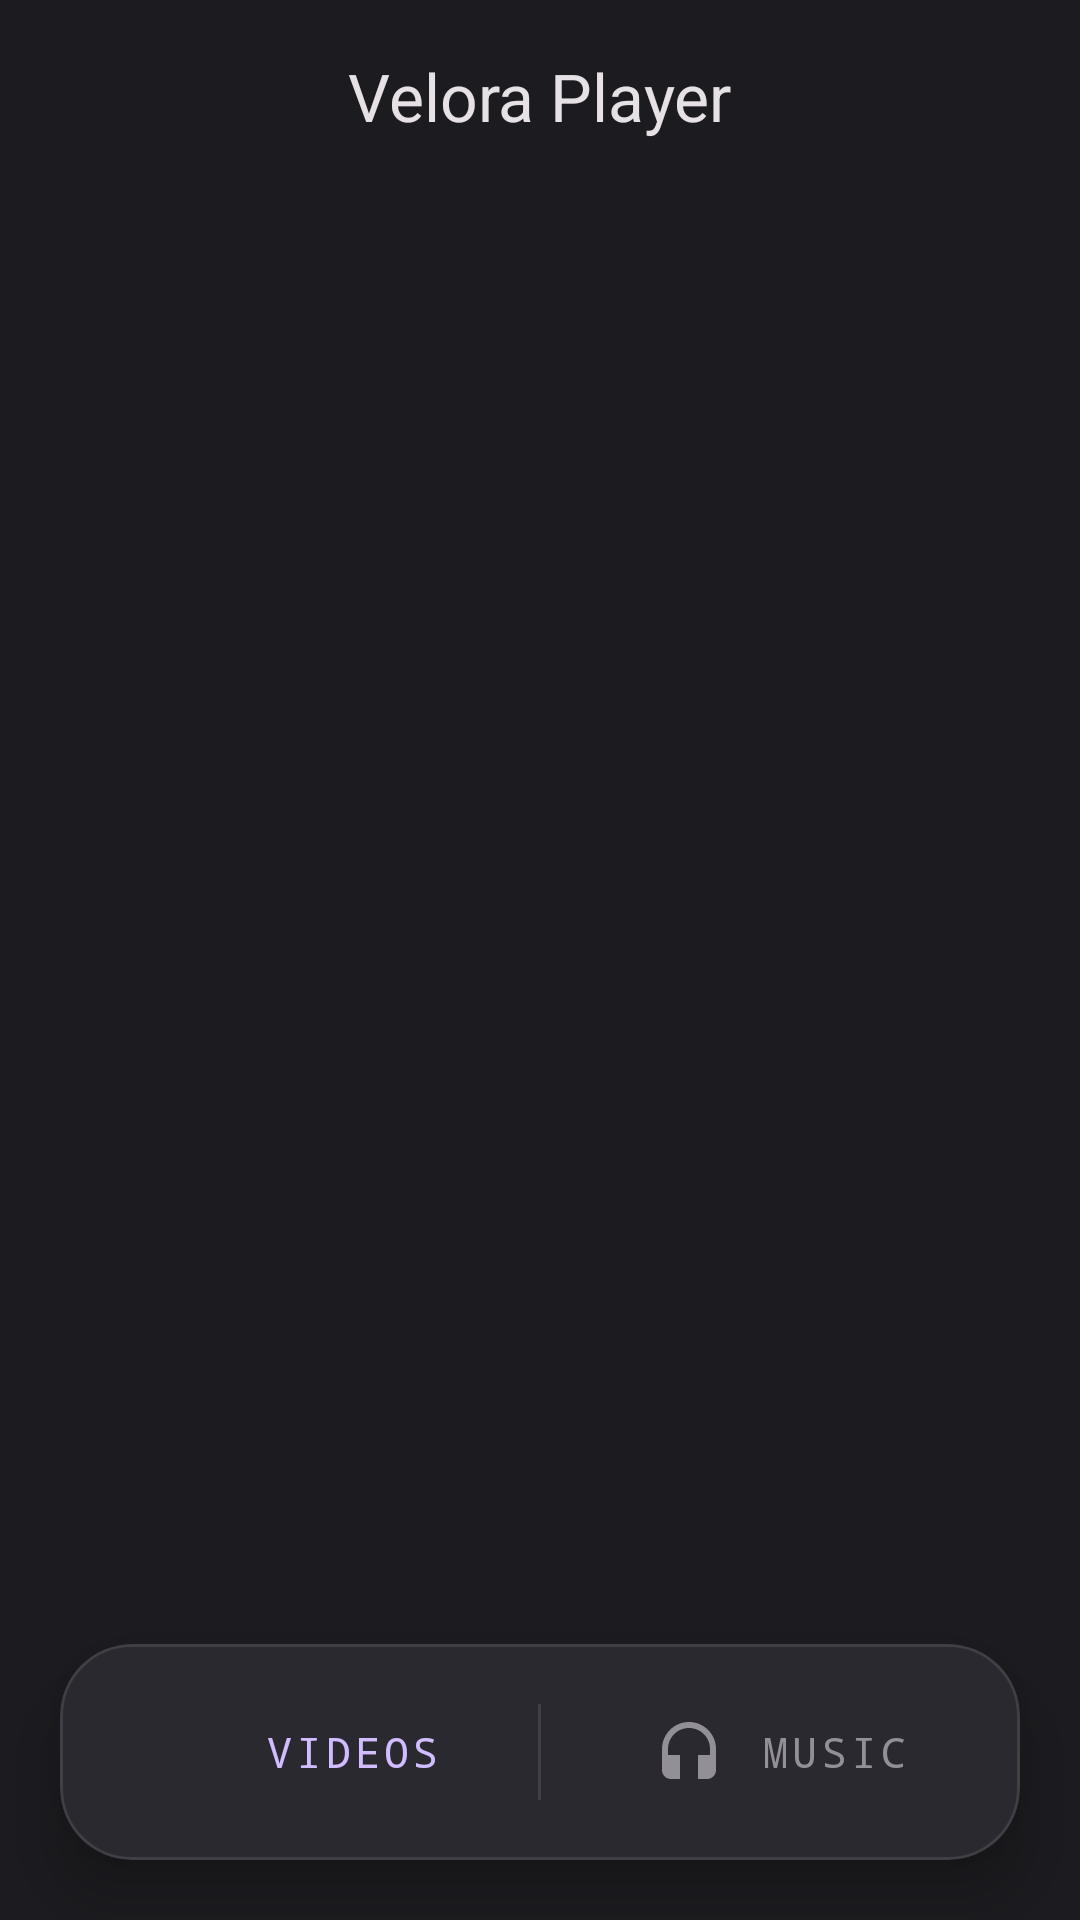

Icon bounding boxes for this 1080×1920 phone screenshot, format (x1,y1,x2,y2):
headset: (662,1722,716,1779)
